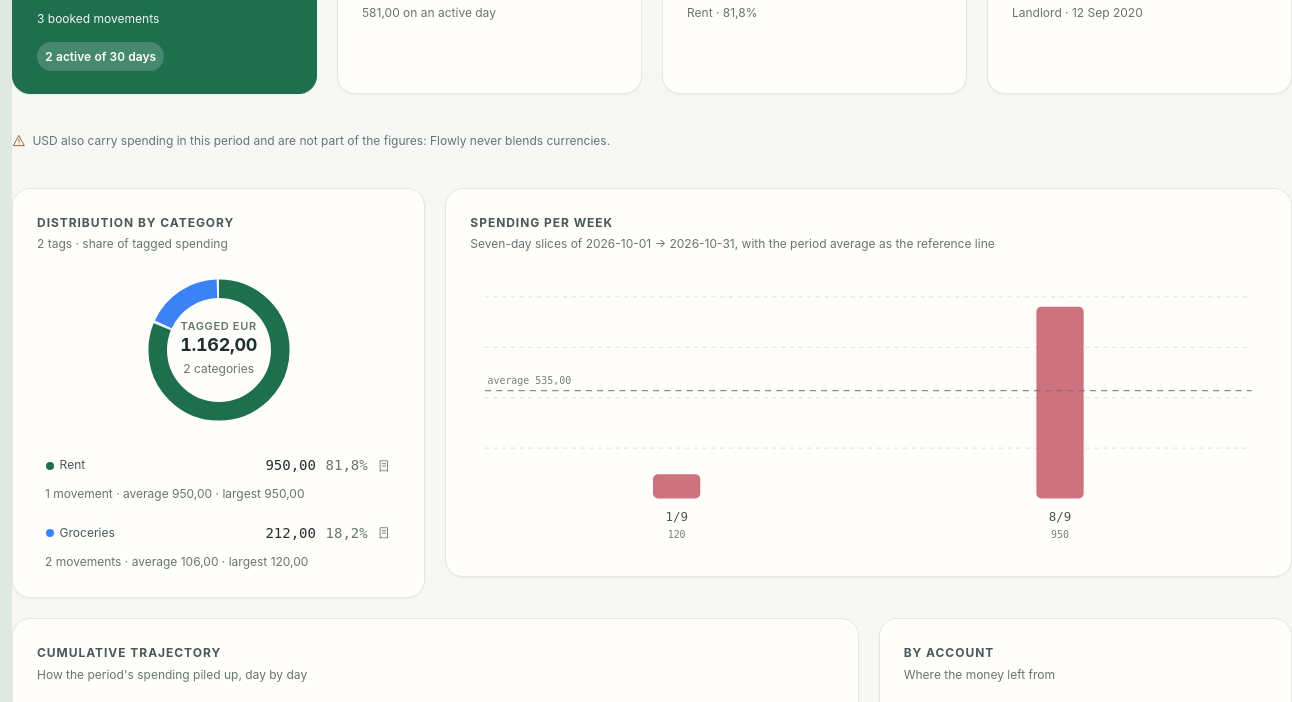
it: expense details › names every week of the bar chart and reads one out on focus
The width and height of the screenshot is (1292, 702).
(page scrolled)
Focus the button named "Week 1 (2020-09-01 to 2020-09-07)" at (669,401), box [470,297,869,505]
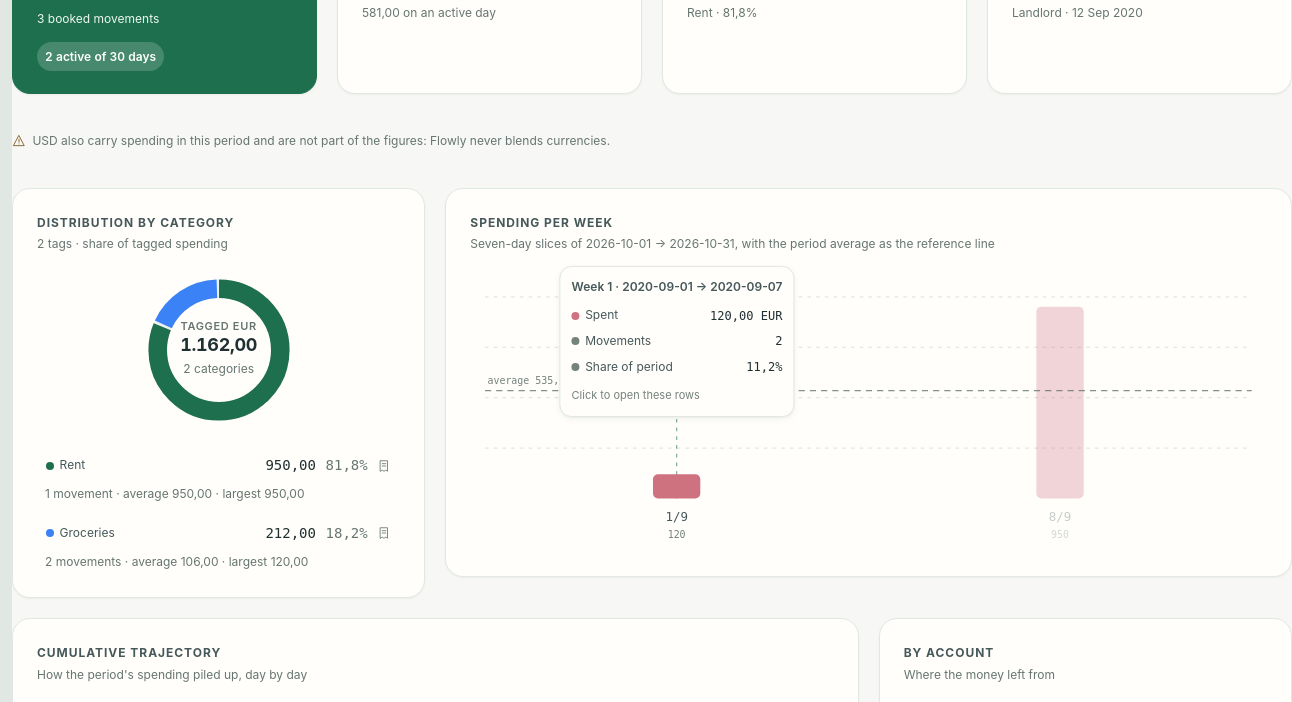
Check: the text "Week 1 · 2020-09-01 → 2020-09-07" is shown, box [572,276,782,299]
Check: the text "120,00 EUR" is shown, box [710,305,782,327]
